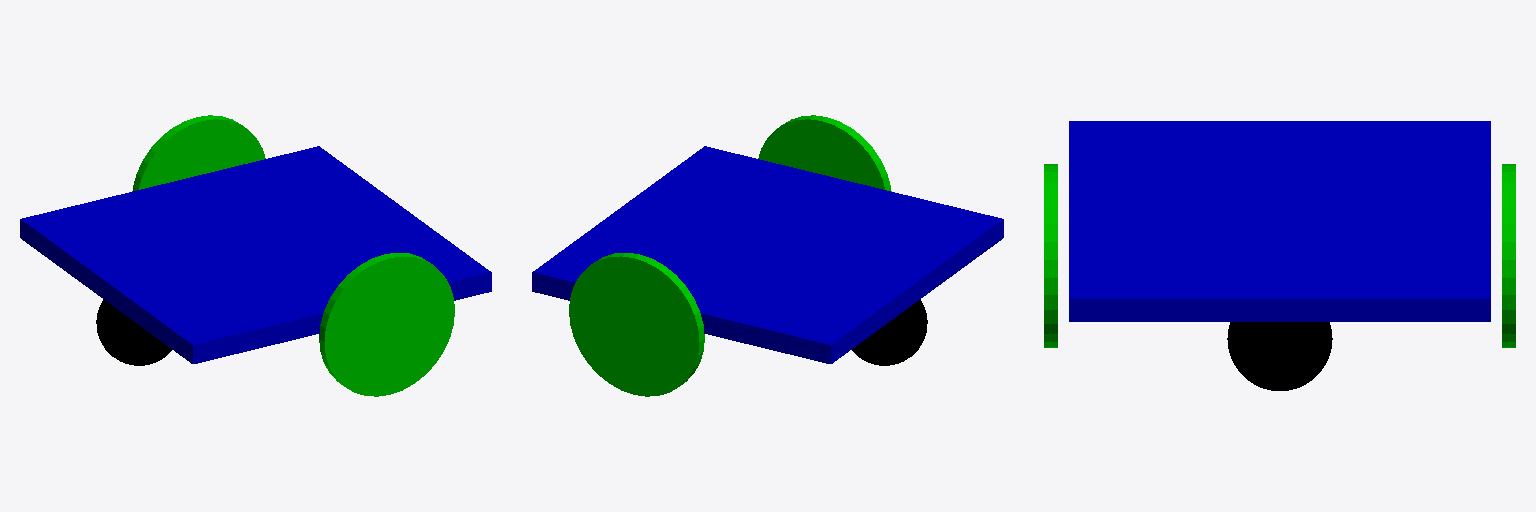
robot.urdf — simple_bot:
<?xml version="1.0" encoding="utf-8"?>
<!-- =================================================================================== -->
<!-- |    This document was autogenerated by xacro from simple_bot.xacro               | -->
<!-- |    EDITING THIS FILE BY HAND IS NOT RECOMMENDED                                 | -->
<!-- =================================================================================== -->
<robot name="simple_bot" xmlns:xacro="http://ros.org/wiki/xacro">
  <material name="black">
    <color rgba="0.0 0.0 0.0 1.0"/>
  </material>
  <material name="light_black">
    <color rgba="0.64706 0.61961 0.58824 1"/>
  </material>
  <material name="blue">
    <color rgba="0.0 0.0 0.8 1.0"/>
  </material>
  <material name="green">
    <color rgba="0.0 0.8 0.0 1.0"/>
  </material>
  <material name="grey">
    <color rgba="0.2 0.2 0.2 1.0"/>
  </material>
  <material name="orange">
    <color rgba="1.0 0.423529411765 0.0392156862745 1.0"/>
  </material>
  <material name="brown">
    <color rgba="0.870588235294 0.811764705882 0.764705882353 1.0"/>
  </material>
  <material name="red">
    <color rgba="0.8 0.0 0.0 1.0"/>
  </material>
  <material name="white">
    <color rgba="1.0 1.0 1.0 1.0"/>
  </material>
  <material name="aluminum">
    <color rgba="0.5 0.5 0.5 1.0"/>
  </material>
  <!-- <xacro:macro name="cylinder_inertia" params="m r h">
        <inertia ixx="${m*(3*r*r+h*h)/12}" ixy = "0" ixz = "0" iyy="${m*(3*r*r+h*h)/12}" iyz = "0" izz="${m*r*r/2}" />
    </xacro:macro>

    <xacro:macro name="box_inertia" params="m x y z">
        <inertia ixx="${m*(y*y+z*z)/12}" ixy = "0" ixz = "0" iyy="${m*(x*x+z*z)/12}" iyz = "0" izz="${m*(x*x+z*z)/12}" />
    </xacro:macro>

    <xacro:macro name="sphere_inertia" params="m r">
        <inertia ixx="${2*m*r*r/5}" ixy = "0" ixz = "0" iyy="${2*m*r*r/5}" iyz = "0" izz="${2*m*r*r/5}" />
    </xacro:macro> -->
  <gazebo>
    <plugin filename="libgazebo_ros_diff_drive.so" name="differential_drive_controller">
      <alwaysOn>false</alwaysOn>
      <legacyMode>false</legacyMode>
      <updateRate>20</updateRate>
      <leftJoint>left_wheel_joint</leftJoint>
      <rightJoint>right_wheel_joint</rightJoint>
      <wheelSeparation>0.15</wheelSeparation>
      <wheelDiameter>0.07</wheelDiameter>
      <torque>20</torque>
      <commandTopic>/val2/base_controller/cmd_vel</commandTopic>
      <odometryTopic>/val2/base_controller/odom</odometryTopic>
      <odometryFrame>odom</odometryFrame>
      <robotBaseFrame>base_footprint</robotBaseFrame>
      <rosDebugLevel/>
      <publishWheelTF>false</publishWheelTF>
      <publishOdomTF>true</publishOdomTF>
      <publishWheelJointState>false</publishWheelJointState>
      <wheelAcceleration>0</wheelAcceleration>
      <wheelTorque>5</wheelTorque>
      <!-- <odometrySource></odometrySource> -->
      <publishTf>1</publishTf>
    </plugin>
  </gazebo>
  <link name="base_footprint">
    <!-- <xacro:box_inertia m="20" w="0.001" h="0.001" d="0.001"/> -->
    <visual>
      <origin rpy="0 0 0" xyz="0 0 0"/>
      <geometry>
        <box size="0.001 0.001 0.001"/>
      </geometry>
    </visual>
  </link>
  <link name="base_link">
    <inertial>
      <mass value="10"/>
      <inertia ixx="0.0214166666667" ixy="0.0" ixz="0.0" iyy="0.0426666666667" iyz="0.0" izz="0.0214166666667"/>
    </inertial>
    <visual>
      <geometry>
        <box size="0.16 0.16 0.01"/>
      </geometry>
      <material name="blue"/>
    </visual>
    <collision>
      <geometry>
        <box size="0.16 0.16 0.01"/>
      </geometry>
    </collision>
    <collision name="caster_front_collision">
      <origin rpy=" 0 0 0" xyz="-0.0625 0 -0.02"/>
      <geometry>
        <sphere radius="0.02"/>
      </geometry>
      <surface>
        <friction>
          <ode>
            <mu>0</mu>
            <mu2>0</mu2>
            <slip1>1.0</slip1>
            <slip2>1.0</slip2>
          </ode>
        </friction>
      </surface>
    </collision>
    <visual name="caster_front_visual">
      <origin rpy=" 0 0 0" xyz="-0.0625 0 -0.02"/>
      <geometry>
        <sphere radius="0.02"/>
      </geometry>
      <material name="black"/>
    </visual>
    <collision name="caster_back_collision">
      <origin rpy=" 0 0 0" xyz="0.0625 0 -0.02"/>
      <geometry>
        <sphere radius="0.02"/>
      </geometry>
      <surface>
        <friction>
          <ode>
            <mu>0</mu>
            <mu2>0</mu2>
            <slip1>1.0</slip1>
            <slip2>1.0</slip2>
          </ode>
        </friction>
      </surface>
    </collision>
    <visual name="caster_back_visual">
      <origin rpy=" 0 0 0" xyz="0.0625 0 -0.02"/>
      <geometry>
        <sphere radius="0.02"/>
      </geometry>
      <material name="black"/>
    </visual>
  </link>
  <joint name="base_link_joint" type="fixed">
    <origin rpy="0 0 0" xyz="0 0 0.04"/>
    <parent link="base_footprint"/>
    <child link="base_link"/>
  </joint>
  <link name="left_wheel">
    <visual>
      <origin rpy="1.57079632679 0 0" xyz="0 0 0"/>
      <geometry>
        <cylinder length="0.005" radius="0.035"/>
      </geometry>
      <material name="green"/>
    </visual>
    <collision>
      <origin rpy="1.57079632679 0 0" xyz="0 0 0"/>
      <geometry>
        <cylinder length="0.005" radius="0.035"/>
      </geometry>
    </collision>
    <inertial>
      <mass value="10"/>
      <inertia ixx="0.00308333333333" ixy="0" ixz="0" iyy="0.00308333333333" iyz="0" izz="0.006125"/>
    </inertial>
  </link>
  <joint name="left_wheel_joint" type="continuous">
    <axis rpy="0 0 0" xyz="0 1 0"/>
    <parent link="base_link"/>
    <child link="left_wheel"/>
    <origin rpy="0 0 0" xyz="0.02 0.087 -0.005"/>
  </joint>
  <link name="right_wheel">
    <visual>
      <origin rpy="1.57079632679 0 0" xyz="0 0 0"/>
      <geometry>
        <cylinder length="0.005" radius="0.035"/>
      </geometry>
      <material name="green"/>
    </visual>
    <collision>
      <origin rpy="1.57079632679 0 0" xyz="0 0 0"/>
      <geometry>
        <cylinder length="0.005" radius="0.035"/>
      </geometry>
    </collision>
    <inertial>
      <mass value="10"/>
      <inertia ixx="0.00308333333333" ixy="0" ixz="0" iyy="0.00308333333333" iyz="0" izz="0.006125"/>
    </inertial>
  </link>
  <joint name="right_wheel_joint" type="continuous">
    <axis rpy="0 0 0" xyz="0 1 0"/>
    <parent link="base_link"/>
    <child link="right_wheel"/>
    <origin rpy="0 0 0" xyz="0.02 -0.087 -0.005"/>
  </joint>
  <!-- <link name="caster_wheel">
    <visual>
      <origin xyz="-0.070 0 0" rpy="0 0 0"/>
      <geometry>
        <sphere radius="${caster_wheel_radius}"/>
      </geometry>
      <material name="red"/>
    </visual>
    <collision>
      <origin xyz="-0.070 0 0" rpy="0 0 0"/>
      <geometry>
        <sphere radius="${caster_wheel_radius}"/>
      </geometry>
    </collision>
    <xacro:sphere_inertia m="5" r="${caster_wheel_radius}"/>
  </link> -->
  <!-- <joint name="caster_wheel_joint" type="continuous">
    <axis xyz="0 1 0" rpy="0 0 0" />
    <parent link="base_link"/>
    <child link="caster_wheel"/>
    <origin xyz="${caster_wheel_joint_offset} 0 -${caster_wheel_radius+0.005}" rpy="0 0 0"/>
  </joint> -->
  <joint name="laser_base_fixed" type="fixed">
    <!-- <origin xyz="0 0 0" rpy="0 0 0"/> -->
    <origin rpy="0 0 0" xyz="0.10 0 0.01"/>
    <parent link="base_link"/>
    <child link="laser_base_link"/>
  </joint>
  <link name="laser_base_link">
    <visual>
      <origin rpy="0 0 0" xyz="0 0 0"/>
      <geometry>
        <mesh filename="package://val2_model/sensors/ydlidar/meshes/ydlidar_g4.dae"/>
      </geometry>
      <material name="light_black"/>
    </visual>
    <collision>
      <origin rpy="0 0 0" xyz="0 0 0.02"/>
      <geometry>
        <cylinder length="0.05" radius="0.040"/>
        <!-- <mesh filename="package://val2_model/sensors/ydlidar/meshes/ydlidar_g4.dae" /> -->
      </geometry>
    </collision>
    <inertial>
      <origin rpy="0 0 0" xyz="-0.00029774 0.0066667 0.00013047"/>
      <mass value="0.15717"/>
      <inertia ixx="6.7885E-05" ixy="-1.3987E-07" ixz="-8.1554E-07" iyy="0.00013173" iyz="-9.0932E-08" izz="7.1972E-05"/>
    </inertial>
  </link>
  <joint name="laser_fixed" type="fixed">
    <origin rpy="0 0 0" xyz="0 0 0.03172"/>
    <parent link="laser_base_link"/>
    <child link="laser_frame"/>
  </joint>
  <link name="laser_frame">
    <inertial>
      <origin rpy="0 0 0" xyz="-0.00036659 0.00064155 -0.00027052"/>
      <mass value="0.25482"/>
      <inertia ixx="8.9194E-05" ixy="1.8116E-07" ixz="3.6435E-08" iyy="0.00018279" iyz="2.423E-07" izz="0.00011103"/>
    </inertial>
  </link>
  <gazebo reference="laser_frame">
    <sensor name="laser_sensor" type="ray">
      <pose>0 0 0 0 0 0</pose>
      <visualize>True</visualize>
      <!-- <visualize>true</visualize> -->
      <update_rate>20</update_rate>
      <ray>
        <scan>
          <horizontal>
            <!-- 180 deg -> 640 -->
            <!-- <samples>640</samples> -->
            <!-- <samples>1280</samples>  -->
            <samples>1280.3864204</samples>
            <resolution>1</resolution>
            <min_angle>-3.14159</min_angle>
            <max_angle>3.14159</max_angle>
          </horizontal>
        </scan>
        <range>
          <min>0.26</min>
          <max>12.0</max>
          <resolution>0.03</resolution>
        </range>
        <noise>
          <type>gaussian</type>
          <mean>0.0</mean>
          <stddev>0.01</stddev>
        </noise>
      </ray>
      <plugin filename="libgazebo_ros_laser.so" name="laser_gazebo_plugin">
        <robotNamespace>val2</robotNamespace>
        <topicName>/scan</topicName>
        <frameName>/laser_frame</frameName>
      </plugin>
    </sensor>
  </gazebo>
</robot>

--- Facts derived from the render (not from the file) ---
The picture shows the robot from 3 angles, left to right: view 1: azimuth 30°, elevation 25°; view 2: azimuth 150°, elevation 25°; view 3: azimuth 270°, elevation 25°; orthographic projection.
Model simple_bot with 6 links and 5 joints (2 continuous, 3 fixed), rooted at base_footprint, posed all joints at 0.
Visible links, largest first — view 1: base_link, right_wheel, left_wheel; view 2: base_link, left_wheel, right_wheel; view 3: base_link, left_wheel, right_wheel.
Boxes of the visible links, x1,y1,x2,y2 form: base_link: [20, 146, 491, 365]; right_wheel: [319, 253, 454, 396]; left_wheel: [132, 115, 265, 191]; base_link: [532, 146, 1003, 365]; left_wheel: [569, 253, 704, 396]; right_wheel: [758, 115, 891, 191]; base_link: [1069, 121, 1490, 390]; left_wheel: [1502, 164, 1515, 347]; right_wheel: [1044, 164, 1057, 347].
Size in the robot's own frame: 0.165 by 0.179 by 0.0705 metres.
0 mesh visuals loaded from 1 distinct referenced files (none loaded); not drawn: 1 (reference not matched to a file when rendering).